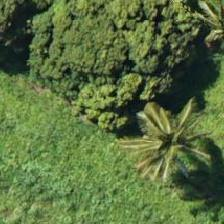coconut_tree: (118, 95, 208, 185)
